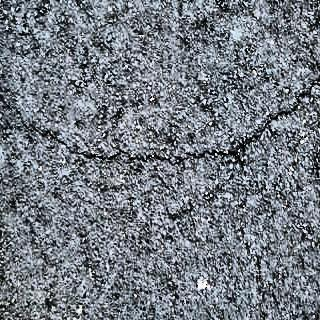crack: (7, 81, 320, 164)
